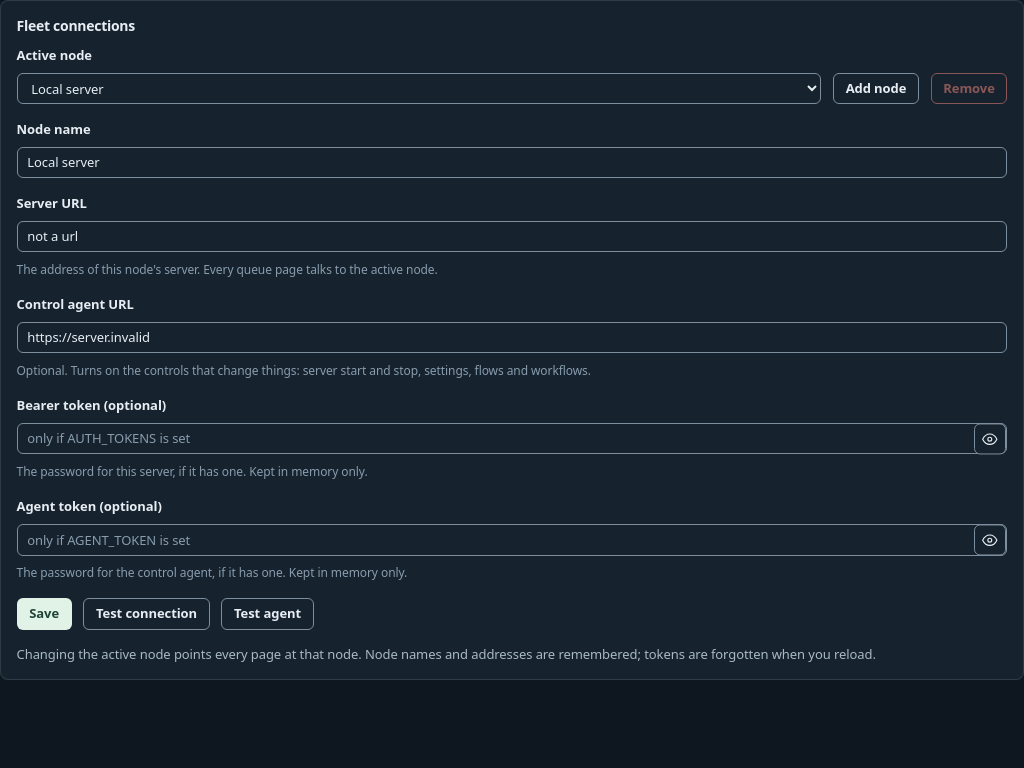
Settings connection form › a bad server URL is tied to its field, and a failed test is an alert
Step 1. Click the button "Save" → point(44, 614), box x1=17 y1=598 x2=72 y2=630
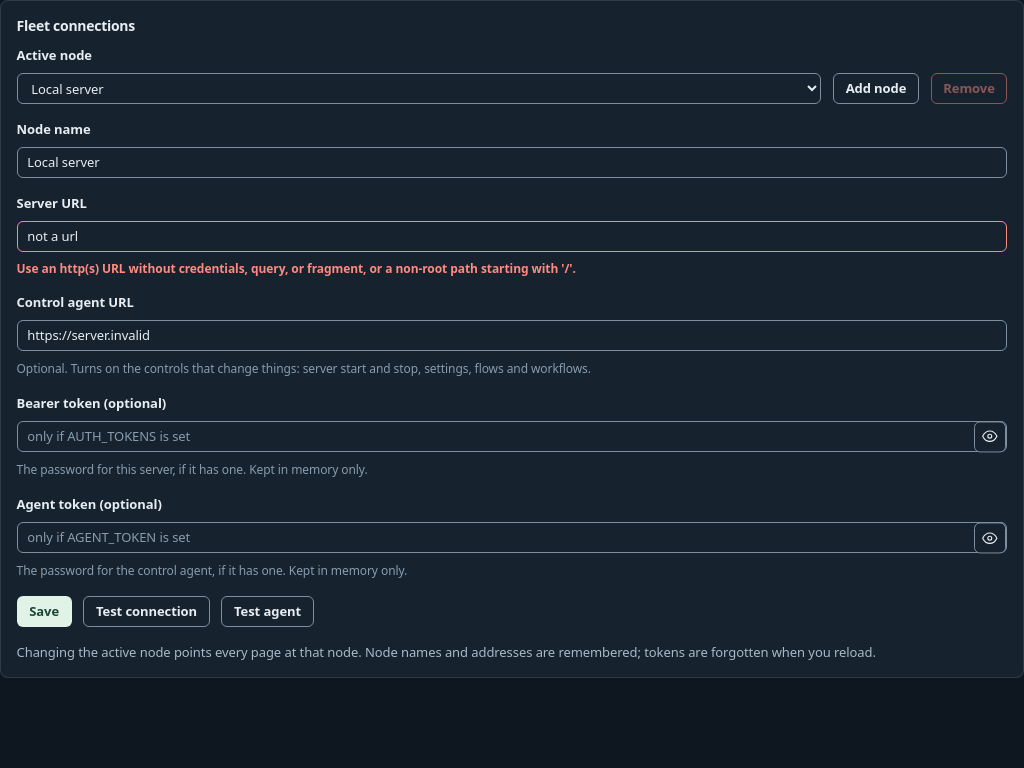
Step 2. Click the button "Test connection" → point(147, 612), box x1=83 y1=596 x2=210 y2=627
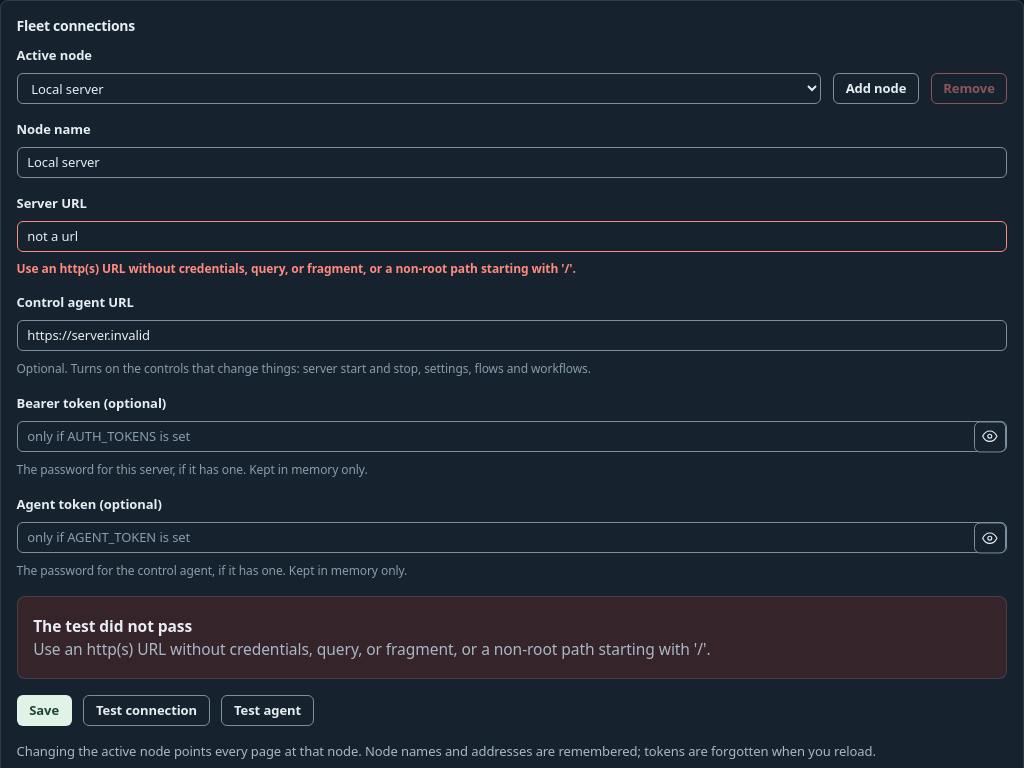
Now the text "The test did not pass" is shown, box x1=33 y1=615 x2=192 y2=637
